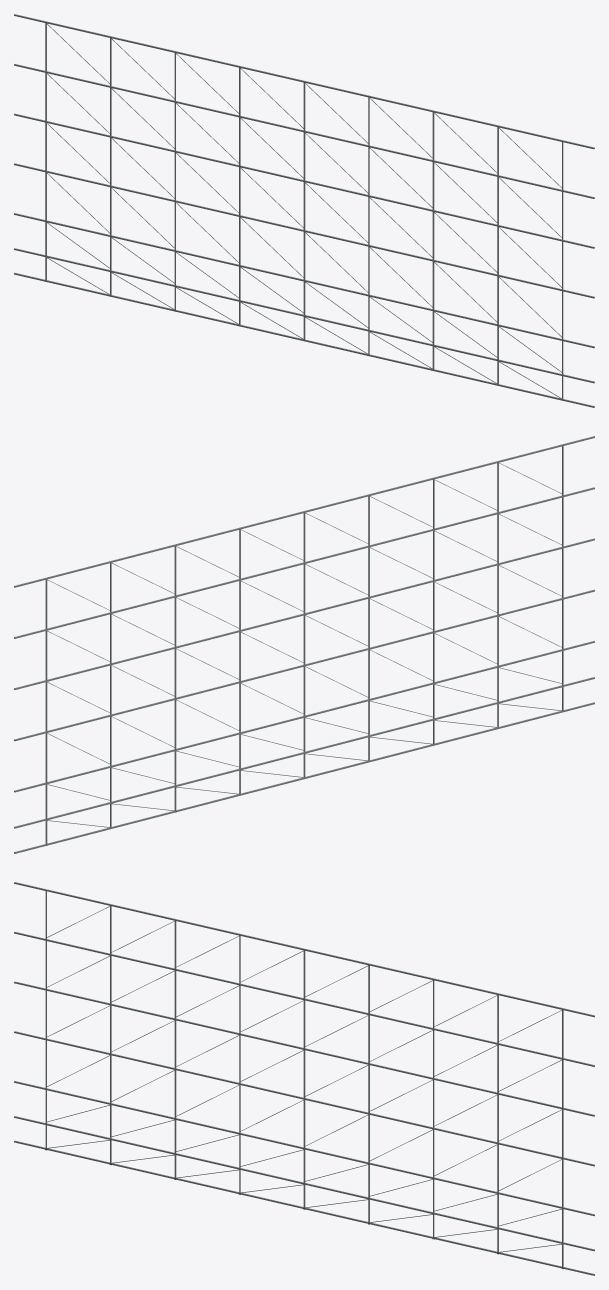
File: G7_Completion_Prior_G7_MiddleExterior_E09_r001.glb
3 views of the same model, one above another, from view 1: azimuth 90°, elevation 25°; view 2: azimuth 150°, elevation 25°; view 3: azimuth 270°, elevation 25° (orthographic). The views are drawn at different scales.
Parts seen in each view (by area): view 1: G7_MiddleExterior_E09_frame; view 2: G7_MiddleExterior_E09_frame; view 3: G7_MiddleExterior_E09_frame.
Part boxes in pixels (<box>): G7_MiddleExterior_E09_frame: <box>14,14,594,407</box>; G7_MiddleExterior_E09_frame: <box>14,436,594,853</box>; G7_MiddleExterior_E09_frame: <box>14,882,594,1275</box>.
Size of the model in its own units: 49.13 by 44.5 by 89.99.
Materials: 2 (2 with a texture image).
